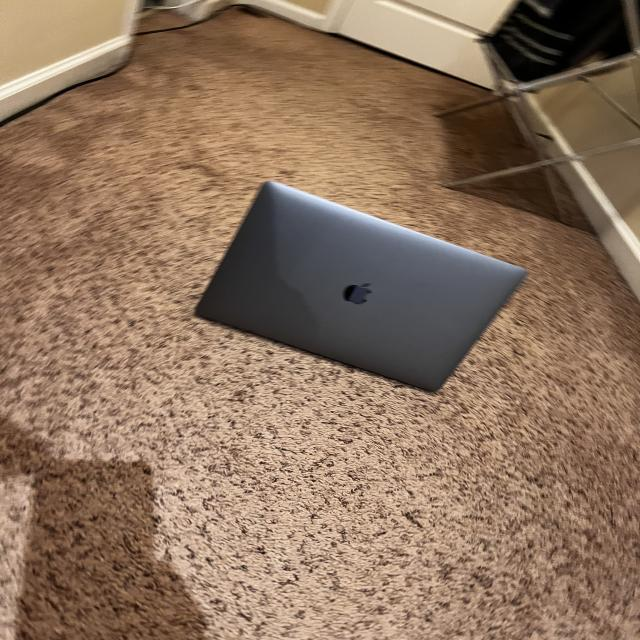laptop: (194, 179, 527, 392)
